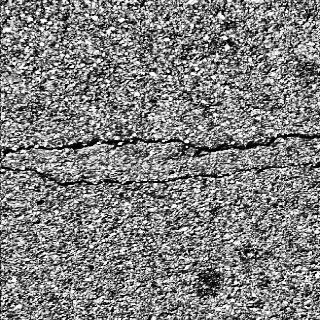crack: (10, 132, 319, 158), (7, 163, 320, 187)
